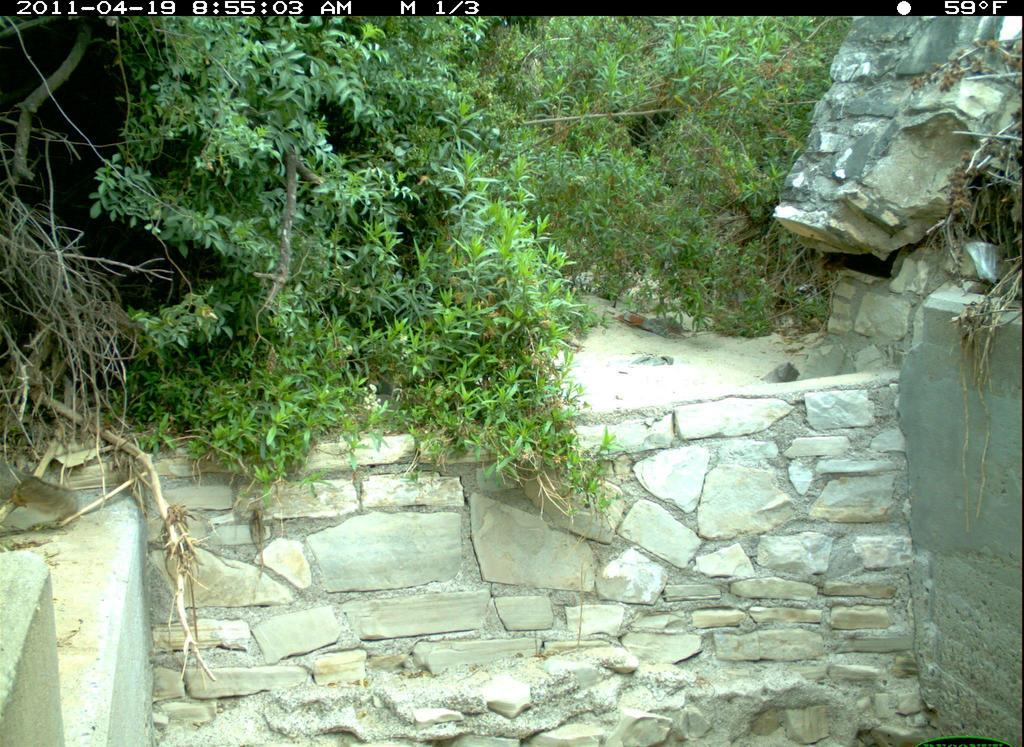squirrel: (1, 441, 89, 542)
